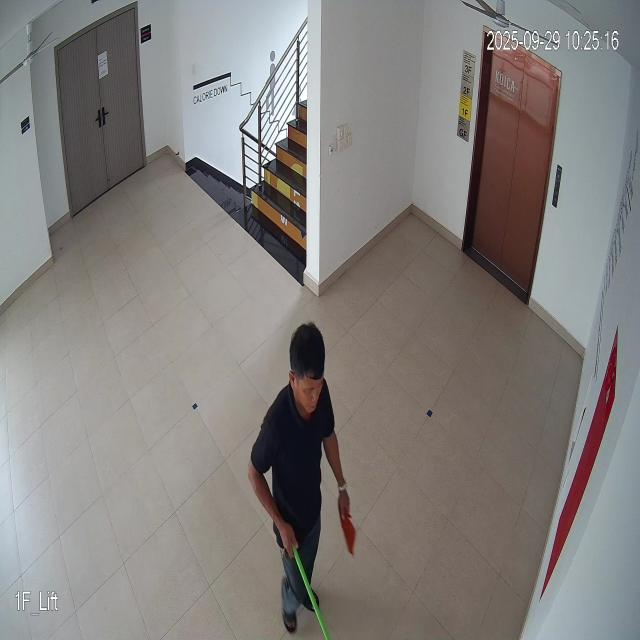face: (283, 322, 328, 424)
